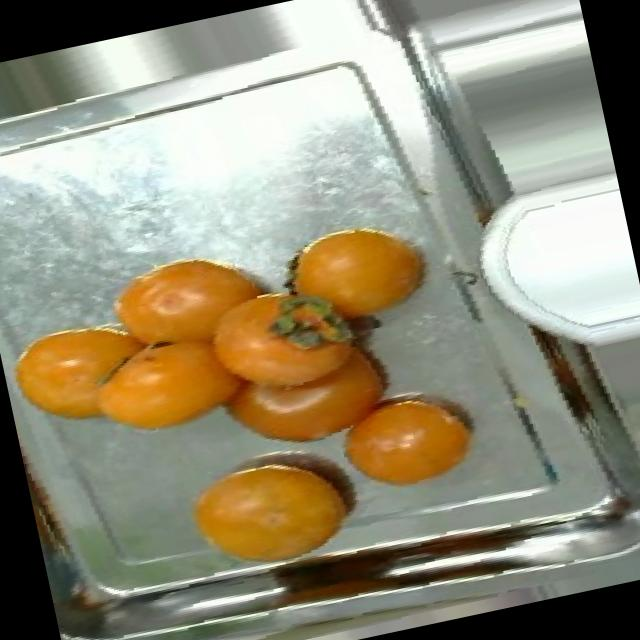Fruit: (162, 427, 390, 586), (268, 198, 456, 348), (316, 365, 499, 518), (0, 296, 175, 448)
